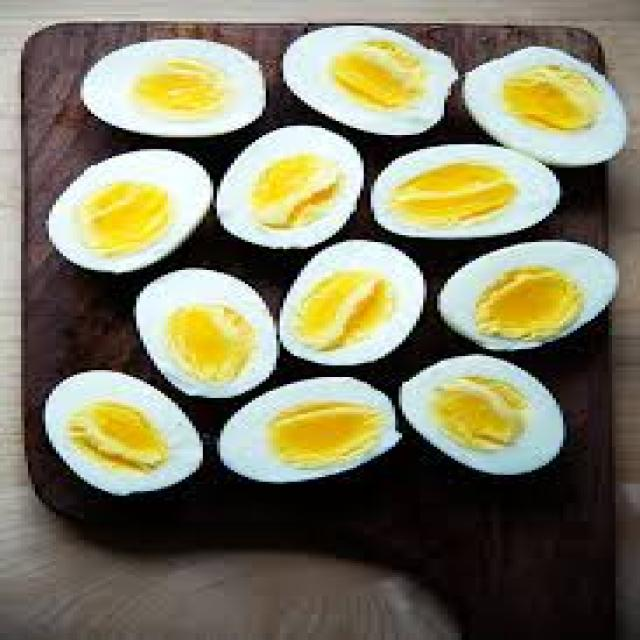boiled egg: (13, 19, 640, 514)
